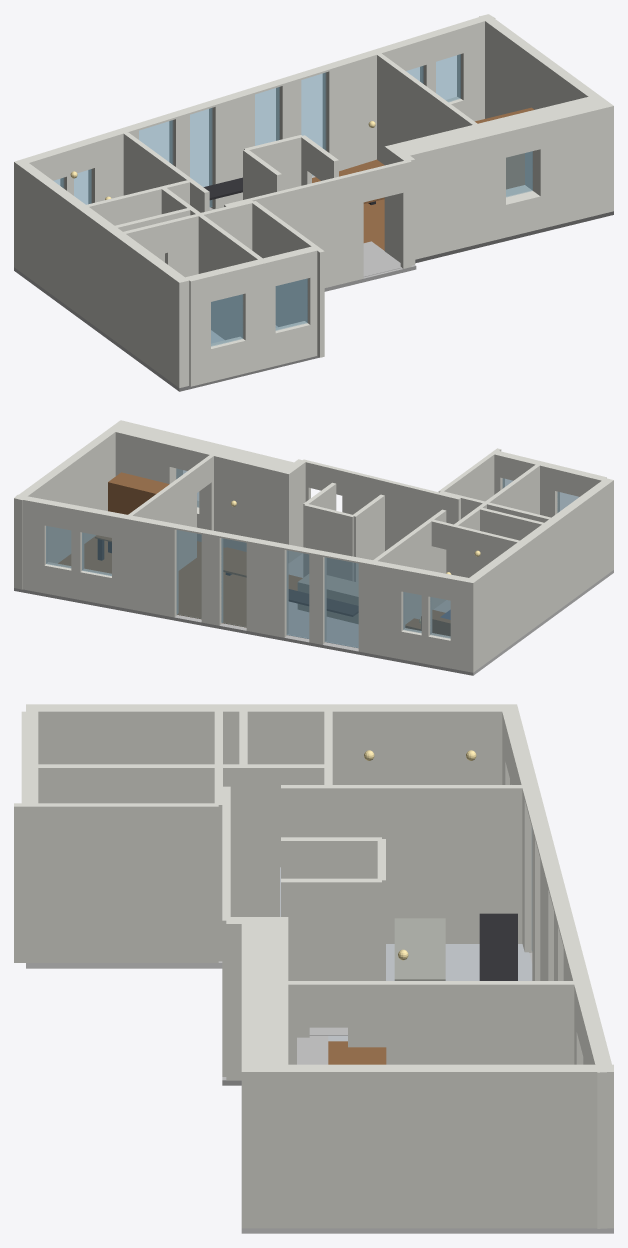
File: home.obj
3 views of the same model, one above another, from view 1: azimuth 30°, elevation 25°; view 2: azimuth 150°, elevation 25°; view 3: azimuth 270°, elevation 25° (orthographic). The views are drawn at different scales.
Visible parts, largest first — view 1: wall_037, wall_035, wall_031, wall_062, wall_030, wall_021, wall_070, wall_052, wall_015, wall_057, wall_051, wall_041 (+42 smaller); view 2: wall_037, wall_035, wall_021, wall_030, wall_062, wall_009, wall_015, wall_031, balcony_011, wall_070, wall_066, floor_base (+43 smaller); view 3: wall_030, wall_052, wall_037, wall_041, wall_070, wall_044, wall_051, wall_065, wall_031, floor_base, wall_035, furniture_kitchen_island (+23 smaller).
Boxes of the visible parts, <box> form: wall_037: <box>14,159,189,387</box>; wall_035: <box>394,121,505,259</box>; wall_031: <box>525,97,613,228</box>; wall_062: <box>224,171,363,287</box>; wall_030: <box>479,14,613,118</box>; wall_021: <box>323,45,393,171</box>; wall_070: <box>377,53,457,164</box>; wall_052: <box>252,201,324,357</box>; wall_015: <box>209,89,254,208</box>; wall_057: <box>240,256,275,373</box>; wall_051: <box>198,215,265,339</box>; wall_041: <box>123,132,209,212</box>; wall_037: <box>468,478,613,672</box>; wall_035: <box>199,442,293,551</box>; wall_021: <box>112,512,178,617</box>; wall_030: <box>14,420,127,589</box>; wall_062: <box>342,469,460,574</box>; wall_009: <box>358,558,404,659</box>; wall_015: <box>246,537,288,637</box>; wall_031: <box>110,420,182,483</box>; balcony_011: <box>324,557,358,647</box>; wall_070: <box>128,467,196,569</box>; wall_066: <box>304,504,353,580</box>; floor_base: <box>14,570,613,675</box>; wall_030: <box>241,1064,613,1228</box>; wall_052: <box>14,803,218,962</box>; wall_037: <box>26,704,516,867</box>; wall_041: <box>281,785,522,943</box>; wall_070: <box>348,981,574,1064</box>; wall_044: <box>218,764,279,916</box>; wall_051: <box>30,764,217,803</box>; wall_065: <box>281,837,381,980</box>; wall_031: <box>241,1018,288,1228</box>; floor_base: <box>26,952,613,1233</box>; wall_035: <box>241,924,288,993</box>; furniture_kitchen_island: <box>394,918,445,980</box>.
Bounding box in the file's own units: 1465 × 300 × 1009.
